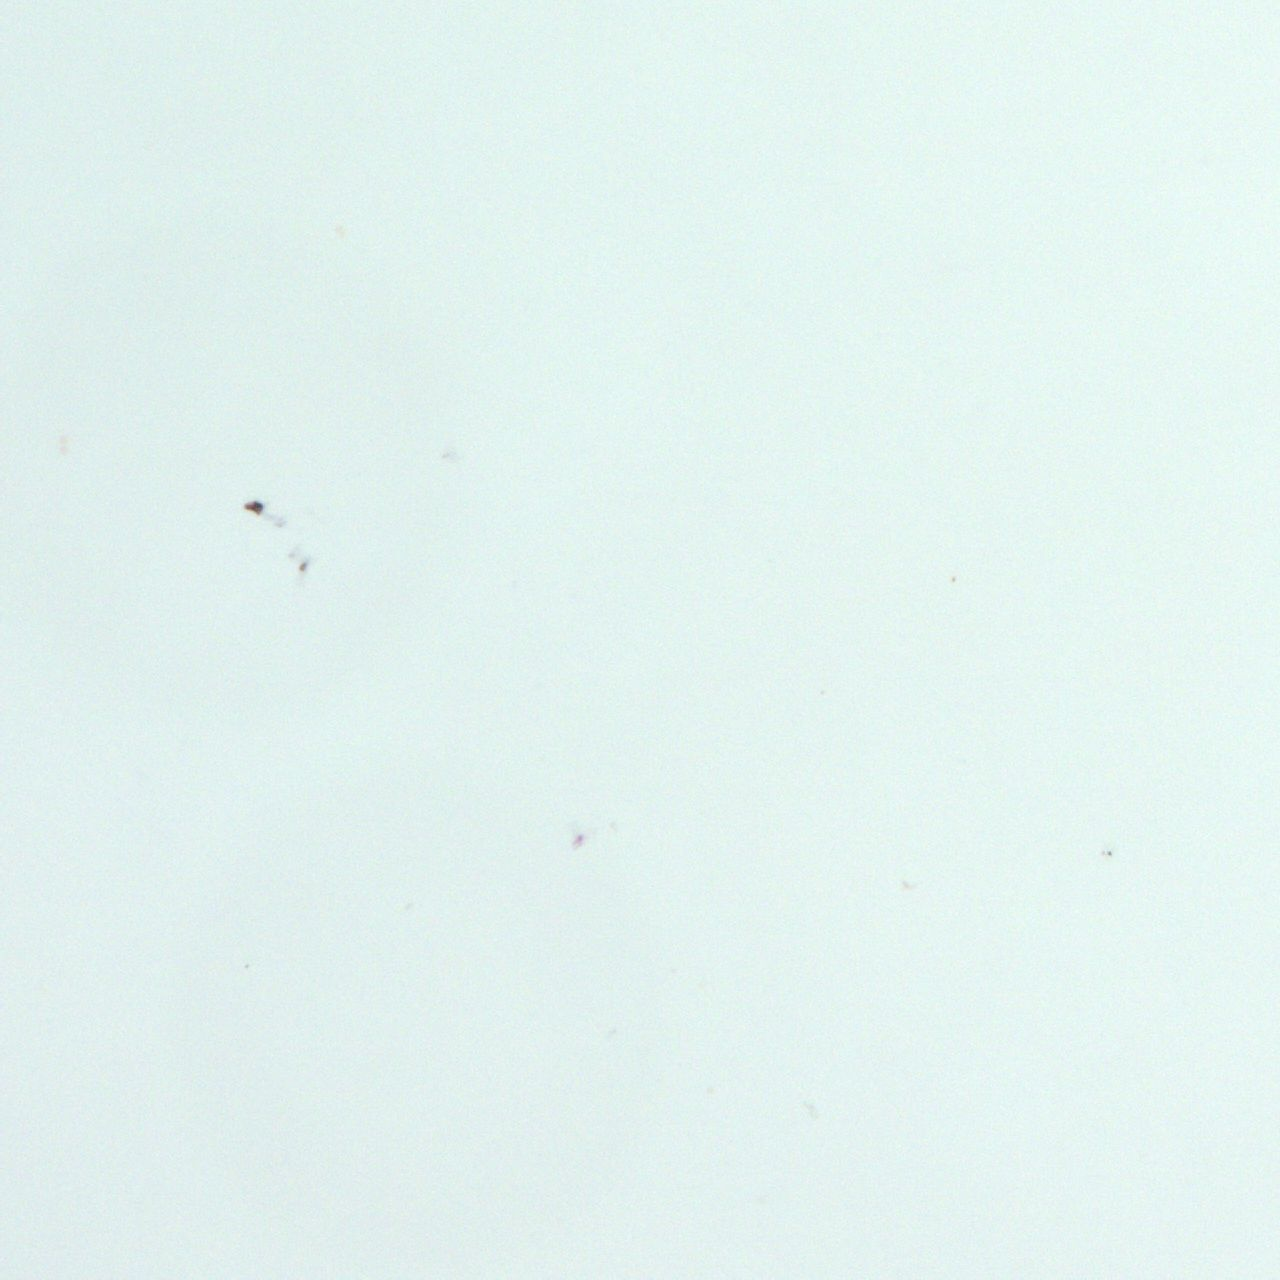dust: (243, 498, 268, 518)
